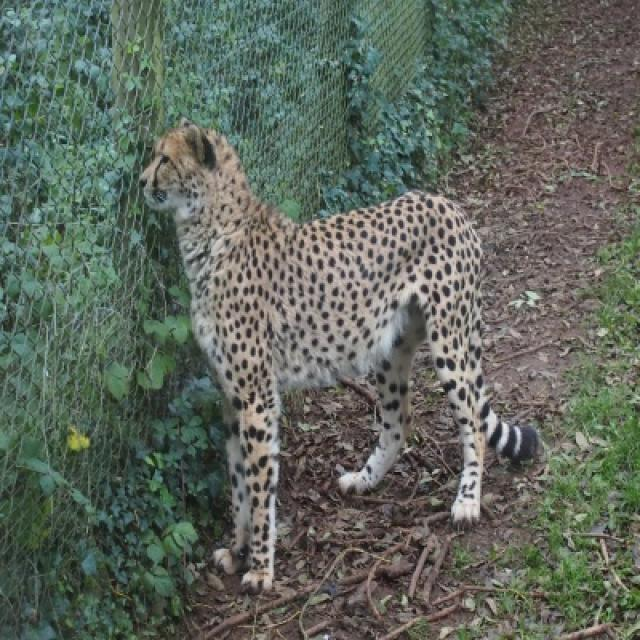Cheetah: (141, 123, 539, 592)
